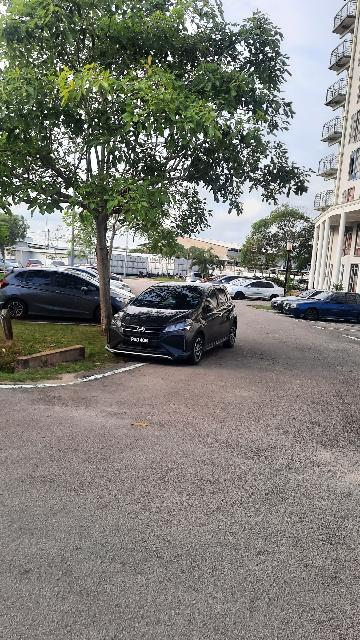License_Plate: (128, 336, 157, 351)
car: (111, 277, 240, 363), (1, 267, 143, 325), (285, 287, 360, 322), (224, 274, 290, 305)
